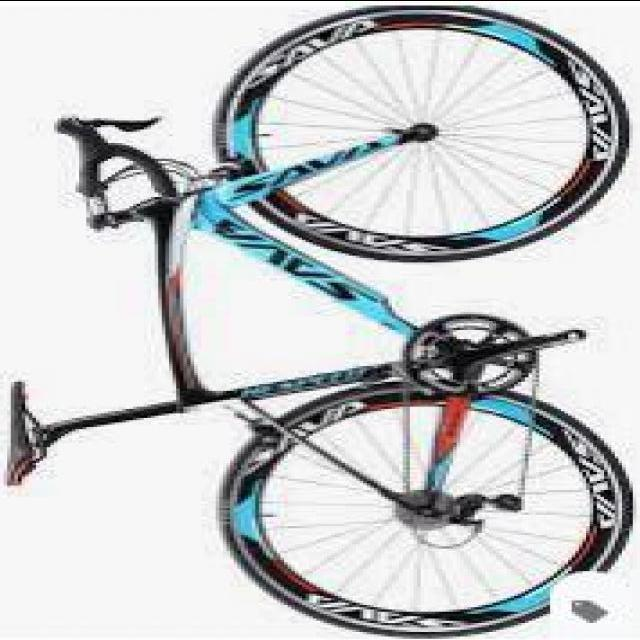bicycle: (8, 17, 623, 625)
